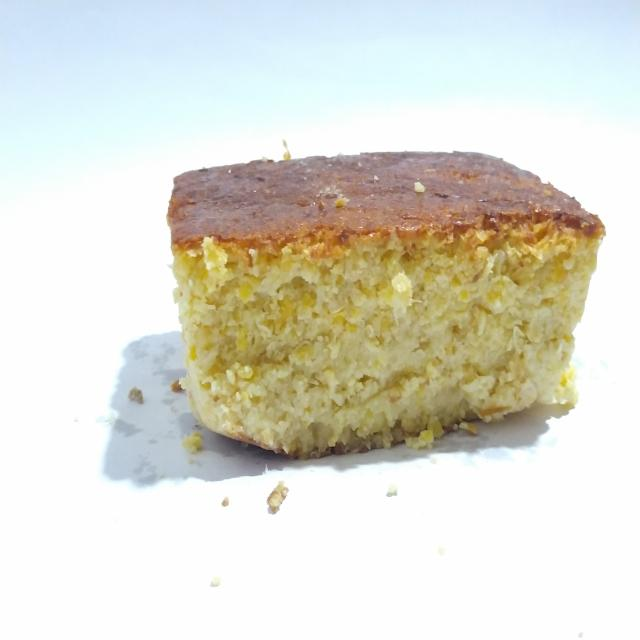Food: (160, 132, 605, 472)
